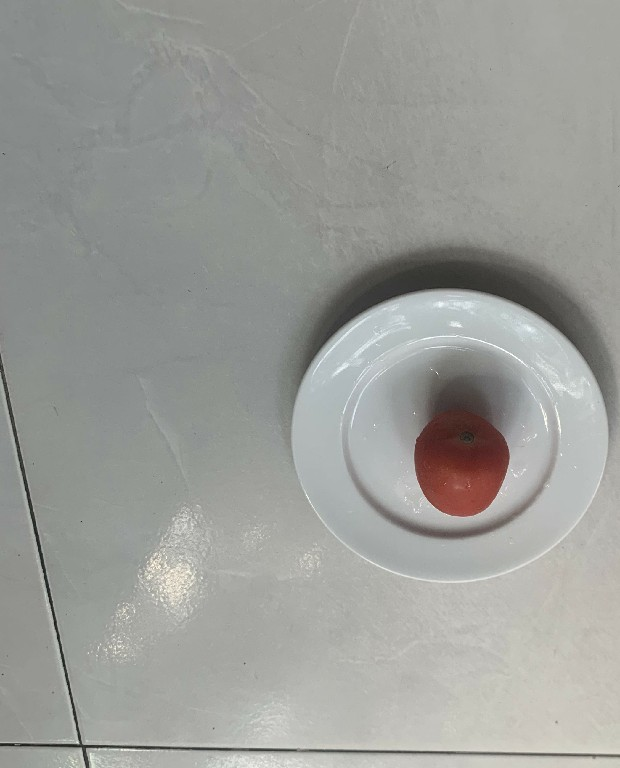OK: (408, 410, 510, 520)
